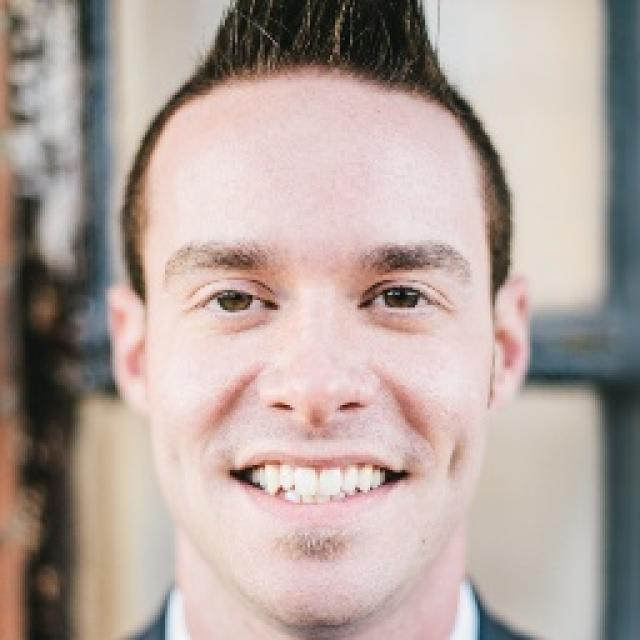earlobe: (486, 367, 520, 415), (118, 376, 152, 417)
eye: (187, 287, 277, 319), (363, 285, 440, 316)
nose: (263, 402, 374, 445)
wholeear: (104, 282, 151, 418), (487, 274, 532, 415)
